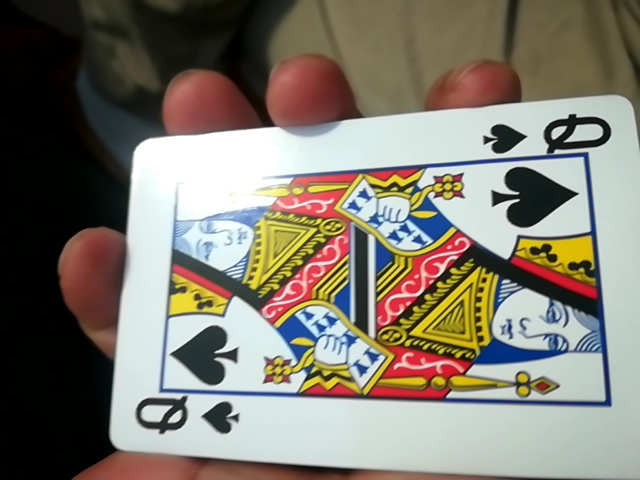ht q: (94, 98, 633, 480)
